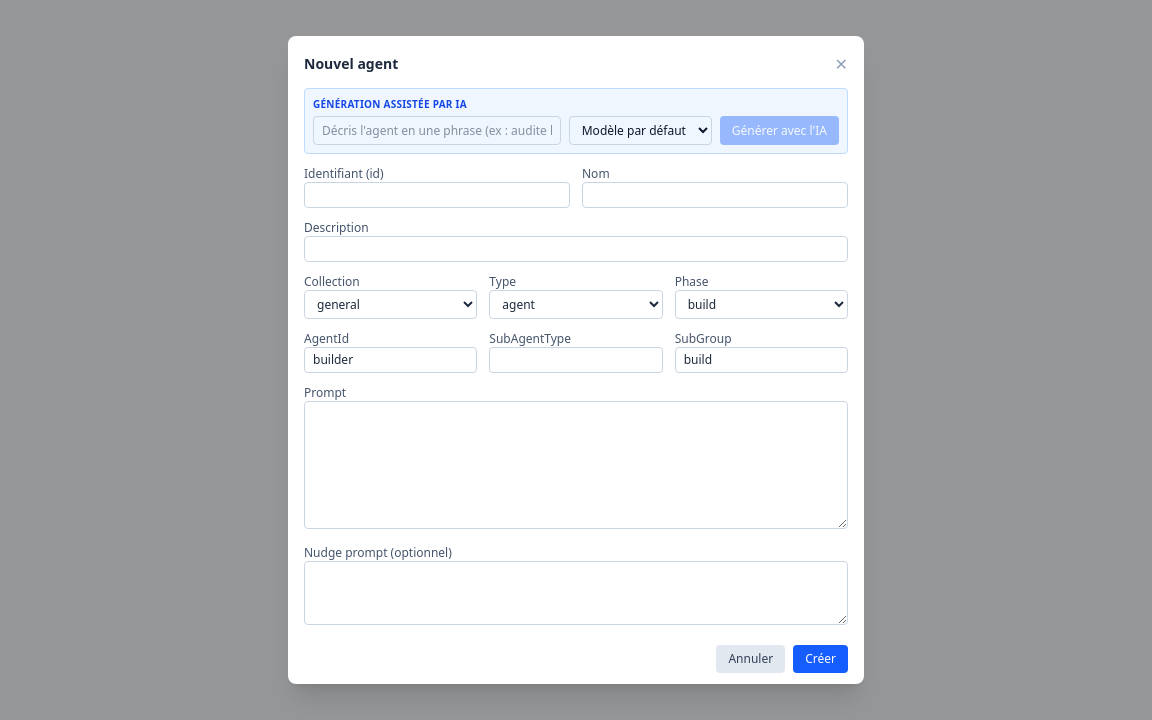
it: AgentEditor › affiche l'erreur de génération IA
Step 1. Replace the text in the field with placeholder "Décris l'agent" with "Audit RGPD" → (437, 130), box [313,116,561,145]
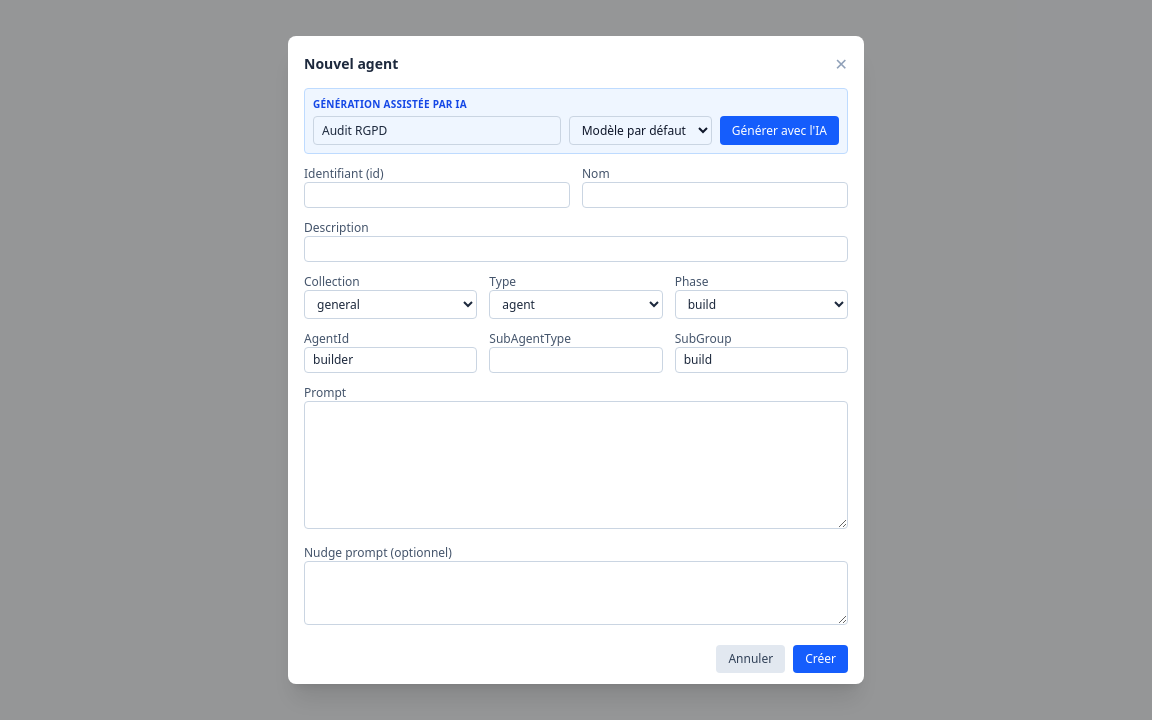
Step 2. Click the button "Générer avec l'IA" → (779, 130), box [720,116,839,145]
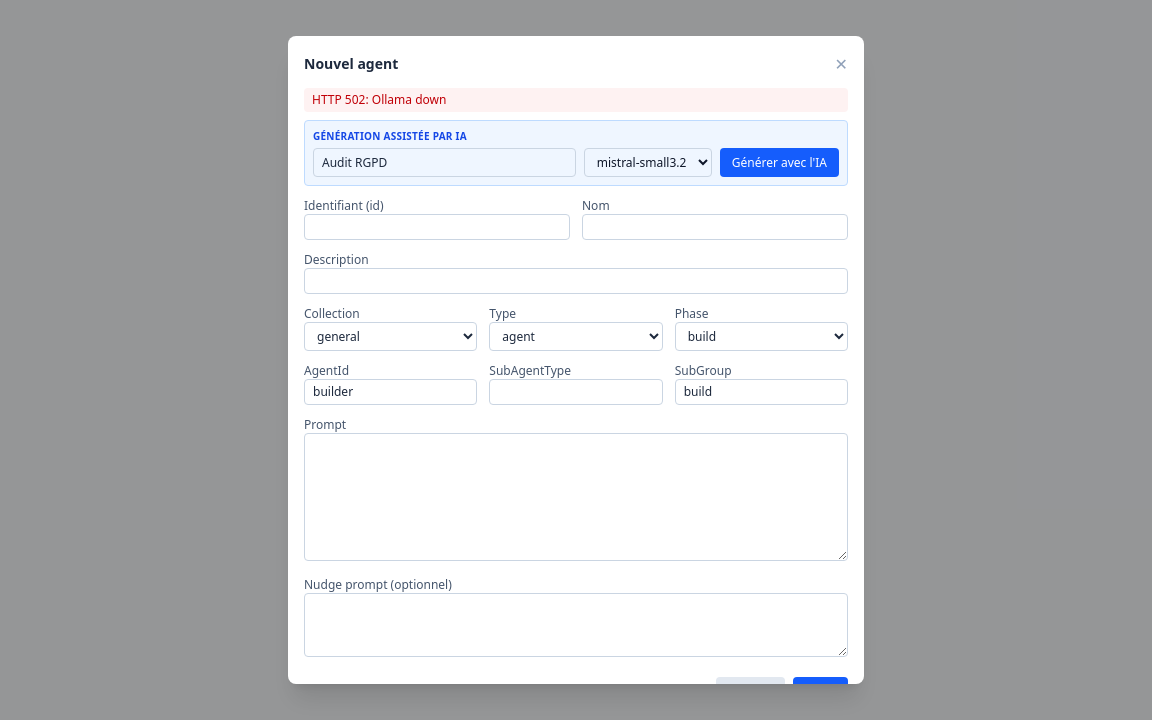
Expected: the text "HTTP 502: Ollama down" is shown, [304,88,848,112]
